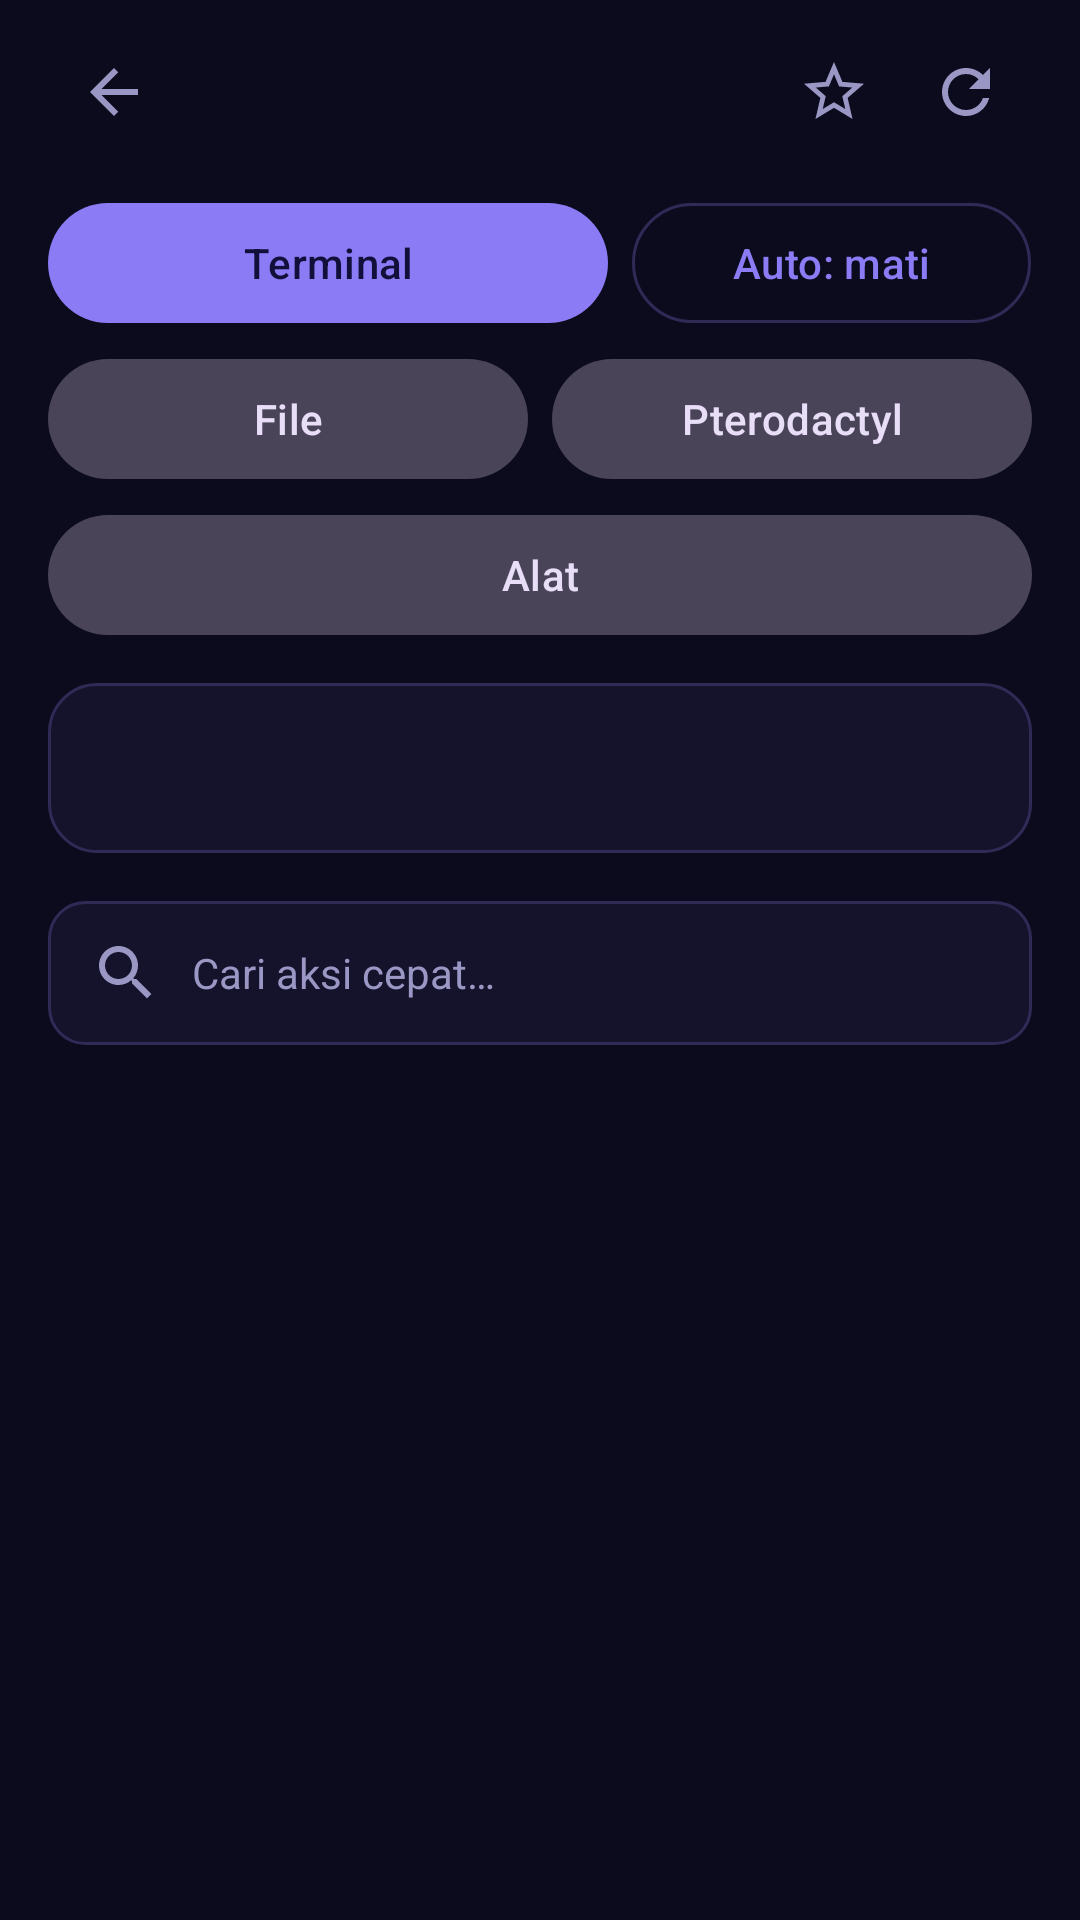

Named icons in this screenshot (1080px x 1920px) and their centers, [x,y]:
Favorit: [834,90]
Kembali: [114,92]
Refresh: [966,92]
